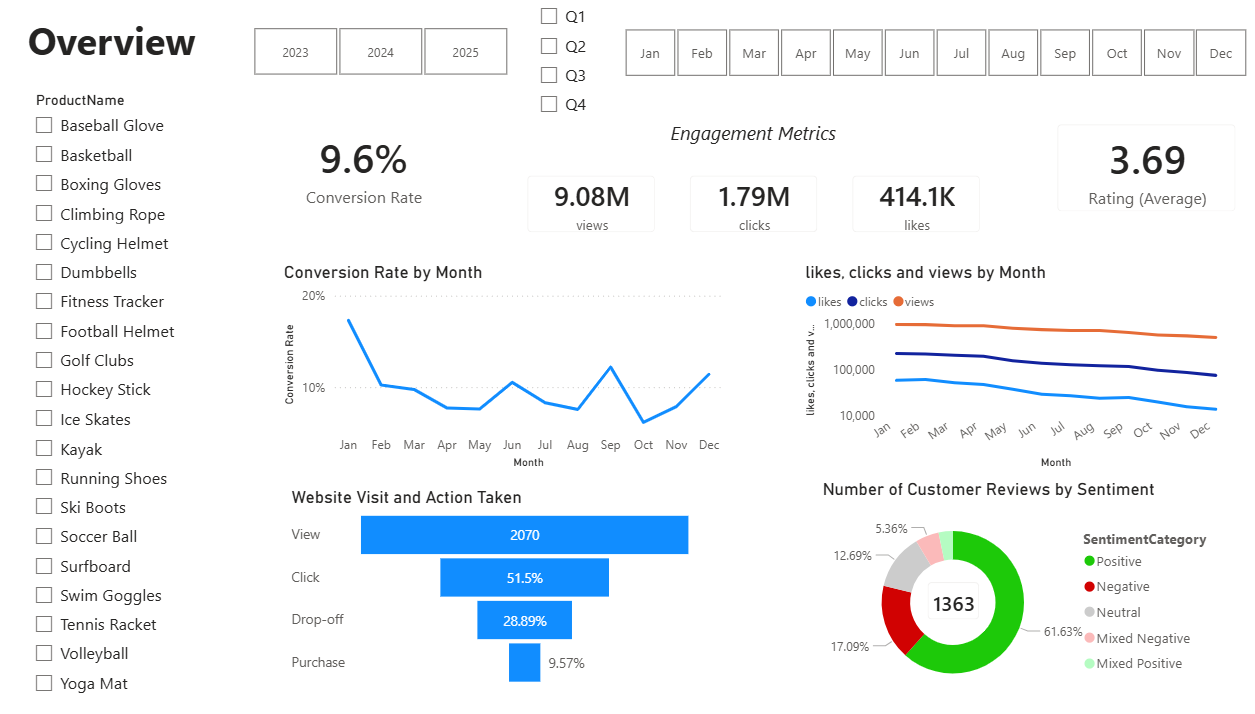

This screenshot's page, from the dashboard's own definition file:
{"tool":"powerbi","page":{"name":"Overview","canvas":[1280,720],"ordinal":0},"visuals":[{"type":"textbox","box":[48.6,13.9,183.3,75],"z":0},{"type":"slicer","fields":{"Values":["dim_products.ProductName"]},"box":[48.6,88.9,183.3,613.9],"z":1000},{"type":"cardVisual","fields":{"Data":["calculations.Conversion Rate"]},"box":[280,110,210,120],"z":2000},{"type":"cardVisual","fields":{"Data":["calculations.likes"]},"box":[850,160,160,90],"z":3000},{"type":"cardVisual","fields":{"Data":["calculations.avg_rating"]},"box":[1052.9,110,210,120],"z":4000},{"type":"cardVisual","fields":{"Data":["calculations.clicks"]},"box":[690,160,160,90],"z":5000},{"type":"cardVisual","fields":{"Data":["calculations.views"]},"box":[530,160,160,90],"z":6000},{"type":"slicer","fields":{"Values":["calendar.Year"]},"box":[250,25,300,60],"z":7000},{"type":"slicer","fields":{"Values":["calendar.Month"]},"box":[617.1,25.7,662.9,60],"z":8000},{"type":"lineChart","fields":{"Y":["calculations.Conversion Rate"],"Category":["calendar.Month"]},"box":[301.4,262.9,442.9,208.6],"z":9000},{"type":"lineChart","fields":{"Y":["calculations.likes","calculations.clicks","calculations.views"],"Category":["calendar.Month"]},"box":[815.7,262.9,427.1,208.6],"z":10000},{"type":"donutChart","title":"Number of Customer Reviews by Sentiment","fields":{"Category":["fact_advanced_sentiment_analysis.SentimentCategory"],"Y":["calculations.Number of Customer Reviews"]},"box":[832.9,477.1,394.3,225.7],"z":11000},{"type":"textbox","box":[635,100,270,60],"z":12000},{"type":"cardVisual","fields":{"Data":["calculations.Number of Customer Reviews"]},"box":[934,572,65.7,51.4],"z":13000},{"type":"funnel","title":"Website Visit and Action Taken","fields":{"Category":["fact_customer_journey.Action"],"Y":["calculations.Number of Customer Journeys"]},"box":[308.6,485.7,407.1,201.4],"z":14000},{"type":"slicer","fields":{"Values":["calendar.Quarter"]},"box":[547.1,0,88.6,130],"z":15000}]}

Visuals, with their boxes in screenshot pixels (x1, y1, x2, y2), scaled from the page's 1280x720 canvas onto the 1255x714 screenshot:
textbox: bbox=[48, 14, 227, 88]
slicer - dim_products.ProductName: bbox=[48, 88, 227, 697]
cardVisual - calculations.Conversion Rate: bbox=[275, 109, 480, 228]
cardVisual - calculations.likes: bbox=[833, 159, 990, 248]
cardVisual - calculations.avg_rating: bbox=[1032, 109, 1238, 228]
cardVisual - calculations.clicks: bbox=[677, 159, 833, 248]
cardVisual - calculations.views: bbox=[520, 159, 677, 248]
slicer - calendar.Year: bbox=[245, 25, 539, 84]
slicer - calendar.Month: bbox=[605, 25, 1254, 85]
lineChart - calculations.Conversion Rate x calendar.Month: bbox=[296, 261, 730, 468]
lineChart - calculations.likes x calculations.clicks: bbox=[800, 261, 1219, 468]
"Number of Customer Reviews by Sentiment" donutChart: bbox=[817, 473, 1203, 697]
textbox: bbox=[623, 99, 887, 159]
cardVisual - calculations.Number of Customer Reviews: bbox=[916, 567, 980, 618]
"Website Visit and Action Taken" funnel: bbox=[303, 482, 702, 681]
slicer - calendar.Quarter: bbox=[536, 0, 623, 129]
